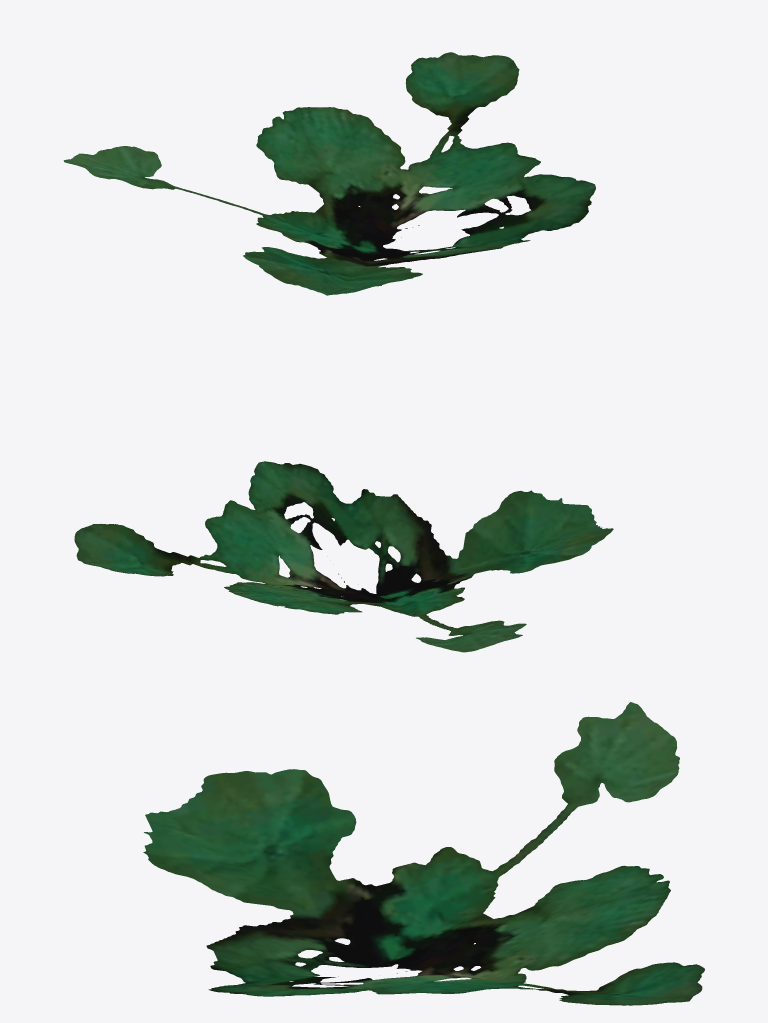
File: ptch_weeds_a1.fbx
3 views of the same model, one above another, from view 1: azimuth 30°, elevation 25°; view 2: azimuth 150°, elevation 25°; view 3: azimuth 270°, elevation 25° (orthographic). The views are drawn at different scales.
Parts seen in each view (by area): view 1: mesh_node; view 2: mesh_node; view 3: mesh_node.
Boxes of the visible parts, left/top/right/bottom form: mesh_node: left=63, top=52, right=595, bottom=295; mesh_node: left=74, top=461, right=613, bottom=652; mesh_node: left=143, top=702, right=704, bottom=1005.
Size of the model in its own units: 0.3619 by 0.0611 by 0.3619.
Materials: 1 (1 with a texture image).
